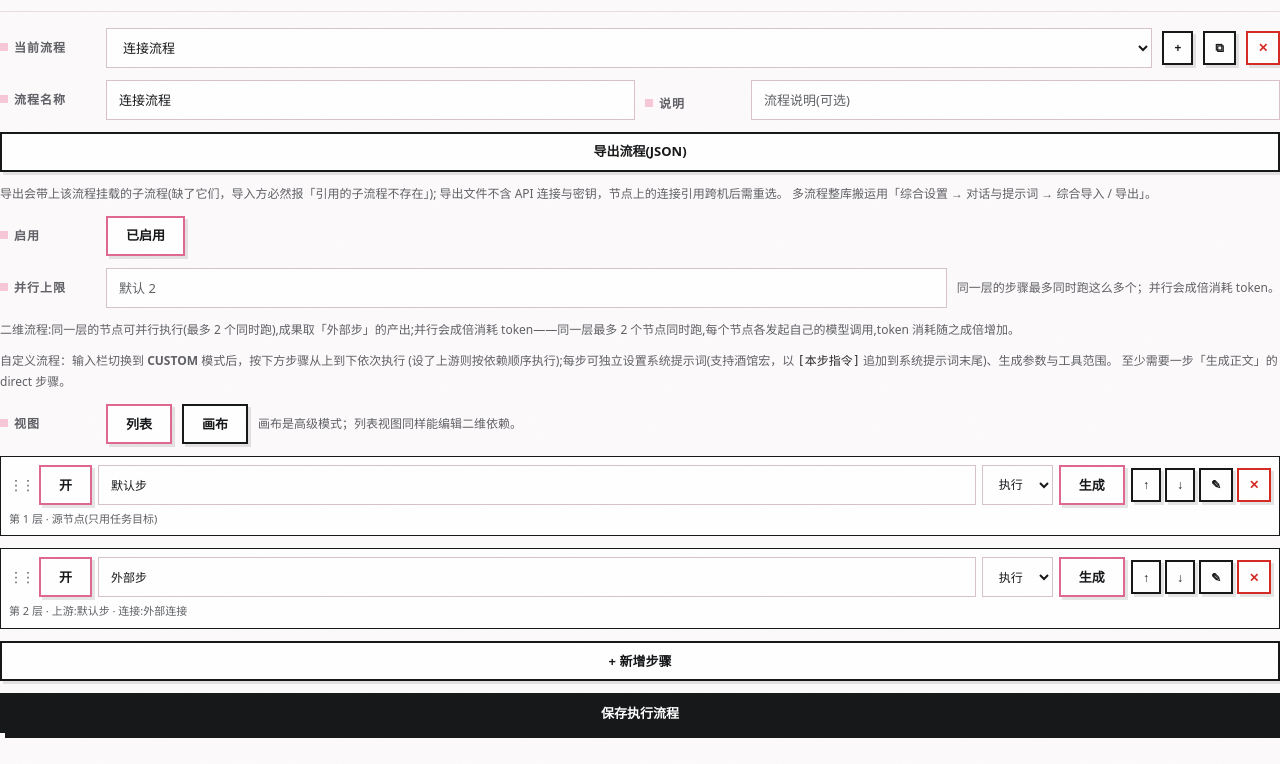
Test case: AgentFlowSection 节点级连接(二维批次 5b) › 连接选择写回草稿,并在列表行显示连接摘要
Step 1. Click the 1st button titled "编辑详情" → coordinates (1216, 485), box 1199,468 -> 1233,502
(page scrolled)
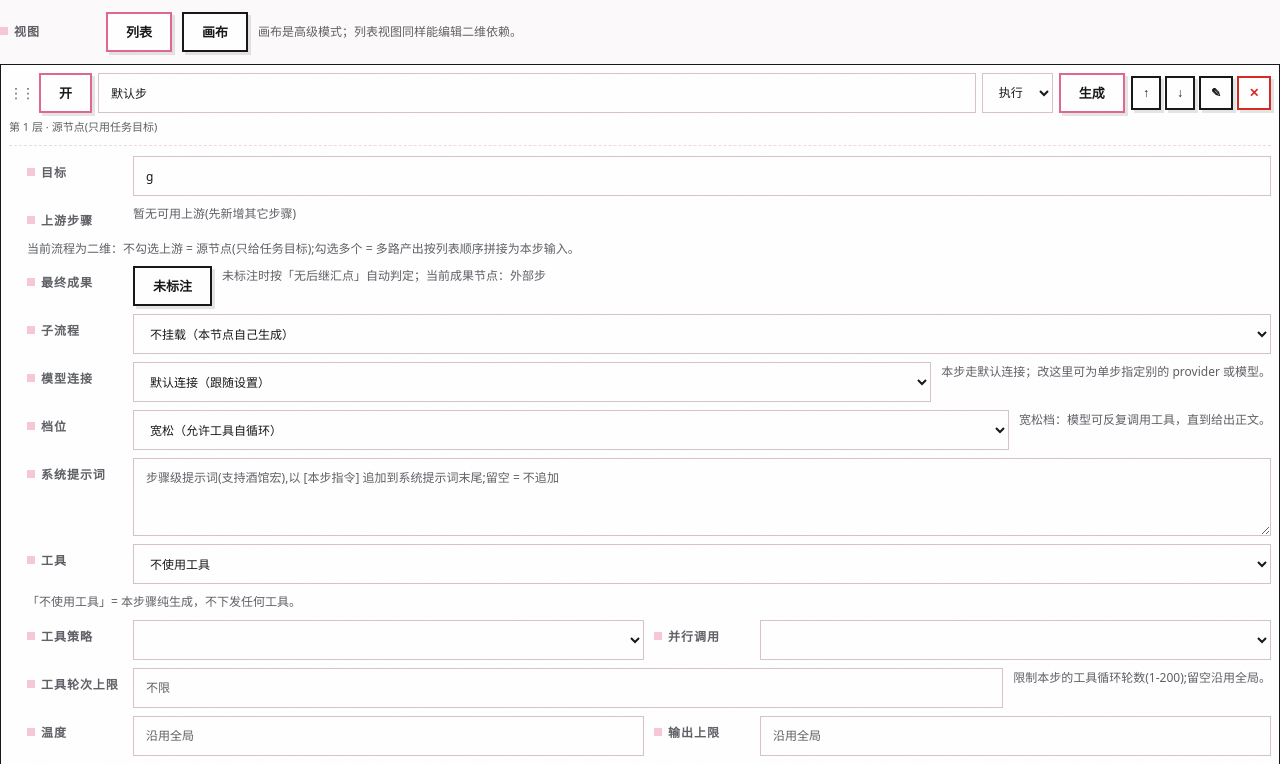
expect the dropdown named "该步骤用哪一套 API 连接(连接里的模型一并生效);默认连接 = 设置里的默认那条" shows "默认连接（跟随设置）": met
Step 2. Select "外部连接｜model-b" in the dropdown named "该步骤用哪一套 API 连接(连接里的模型一并生效);默认连接 = 设置里的默认那条" → coordinates (532, 382), box 133,362 -> 931,402
(page scrolled)
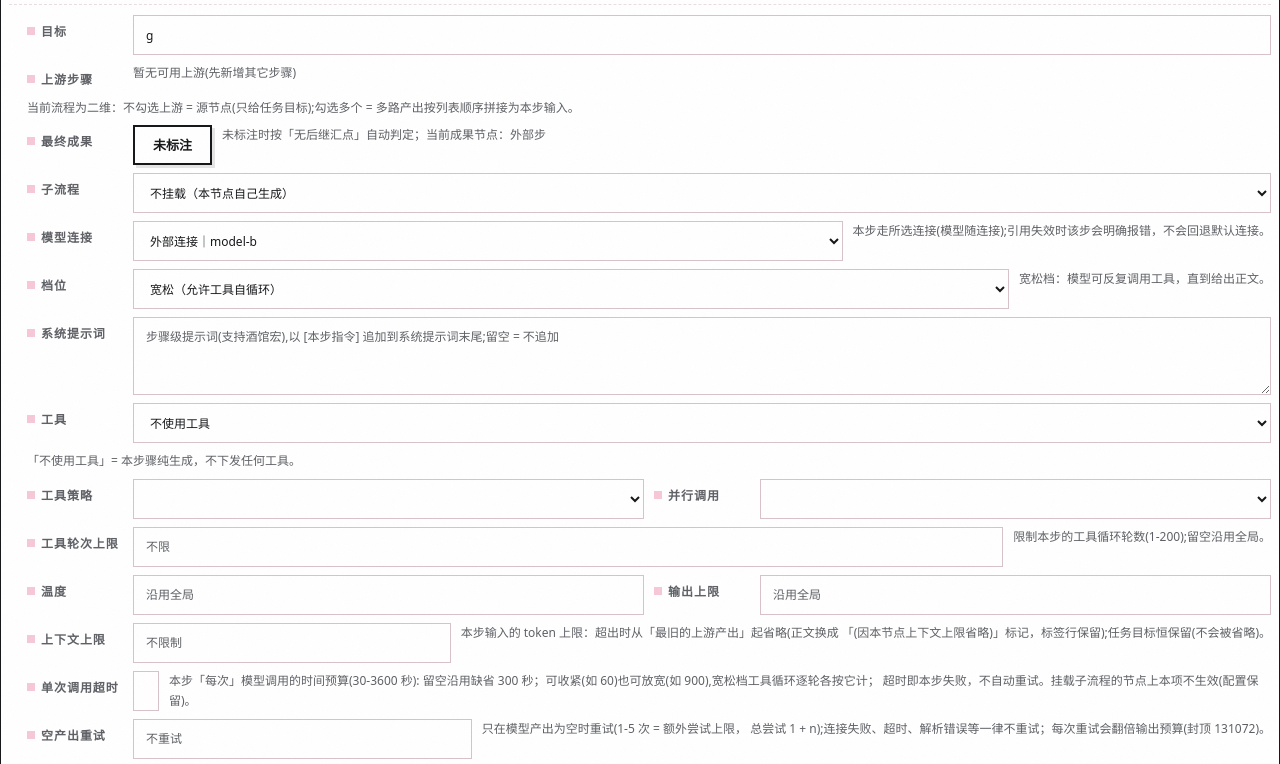
expect the element with class "flow-edit" shows "本步走所选连接": met, box 853,222 -> 1271,240
